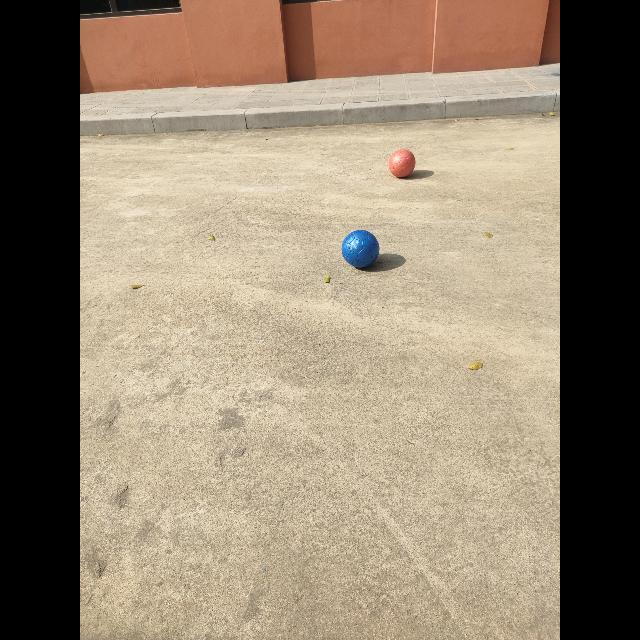B: (341, 230, 380, 269)
R: (389, 150, 415, 178)
